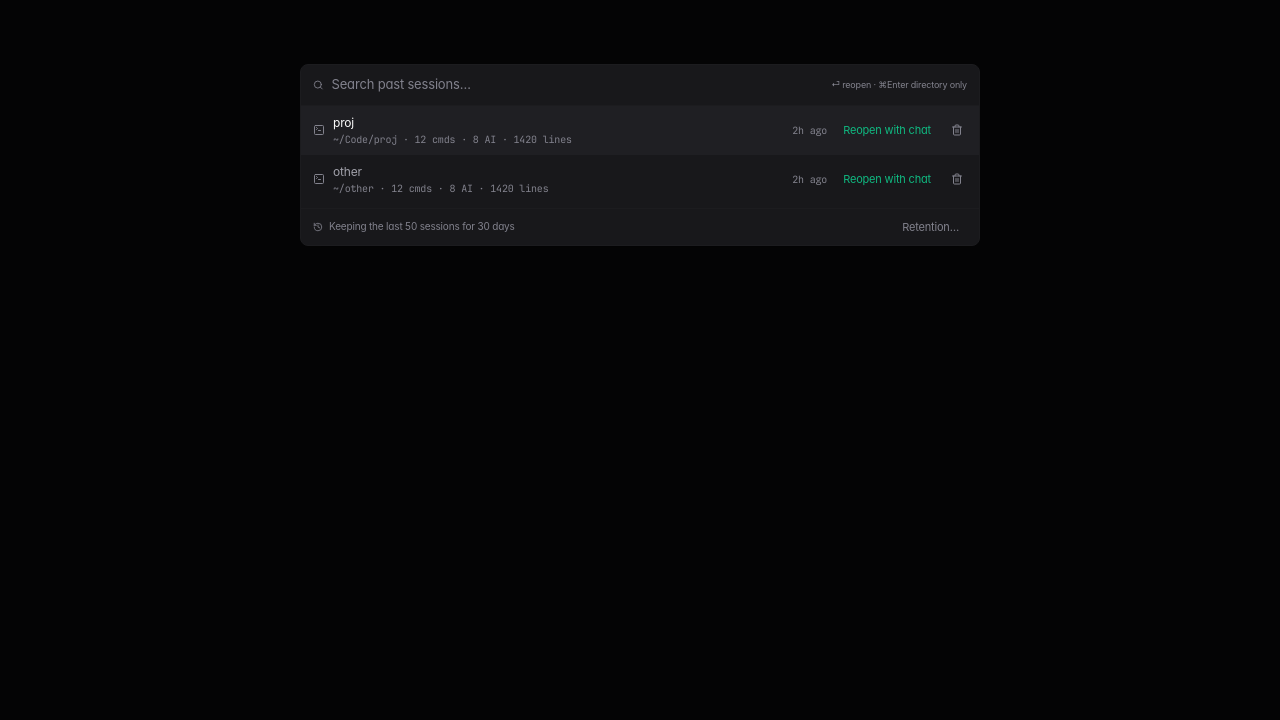
Test: SessionBrowser › says no MATCHING sessions rather than claiming the archive is empty
Expected: the text "proj" is shown, [333,114,354,130]
In the field with placeholder "Search past sessions…": [577, 85] box [332,65,823,104], type "zzzzz"
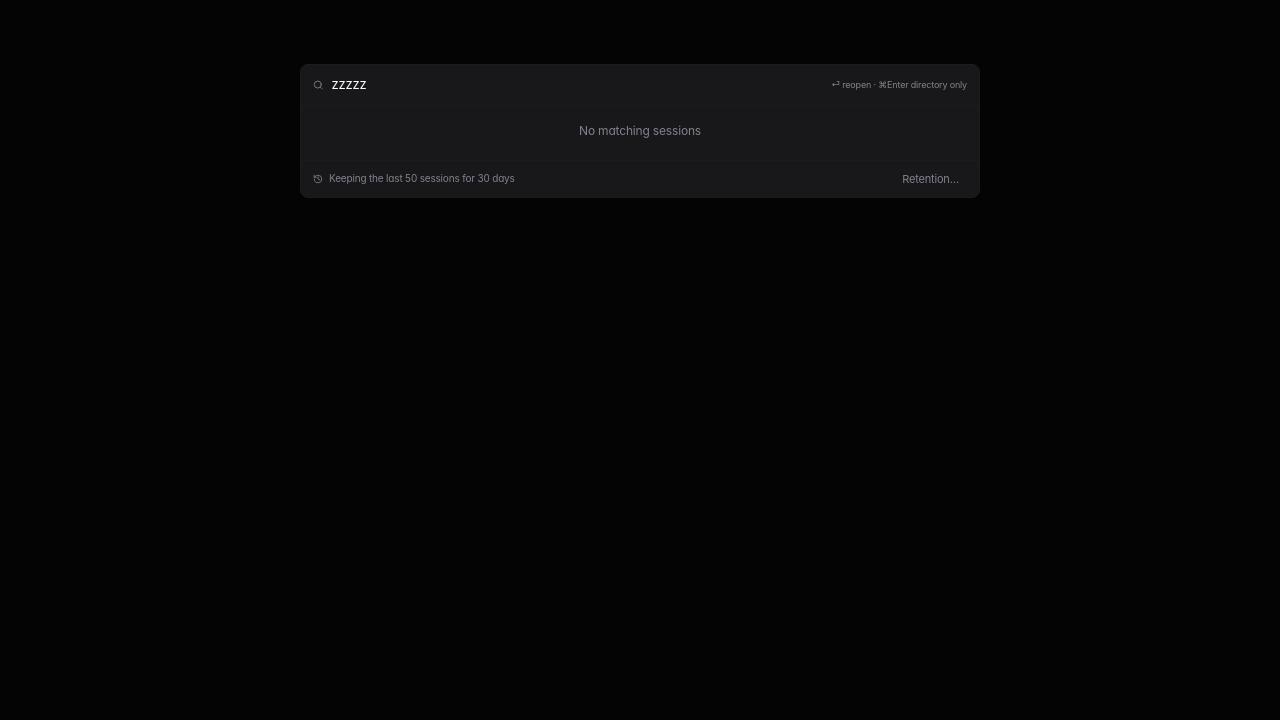
Result: the text "No matching sessions" is shown at [579,122,701,138]
